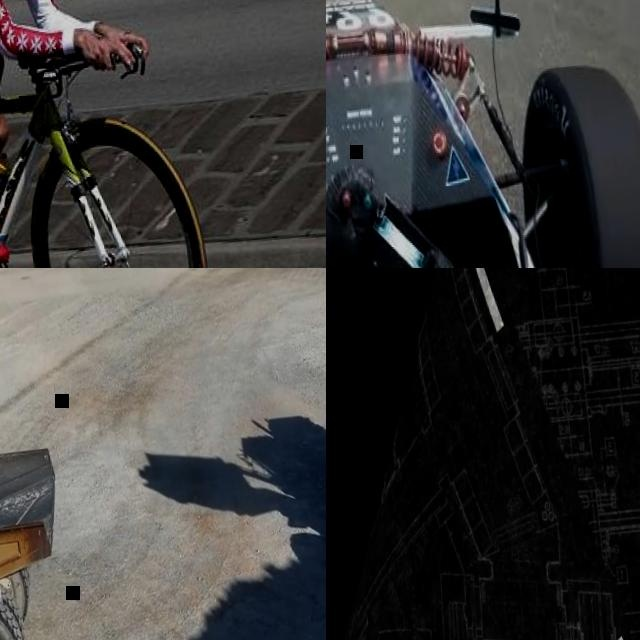Person: (0, 0, 167, 268)
machinery: (0, 413, 91, 640)
vehicle: (326, 0, 640, 268)
